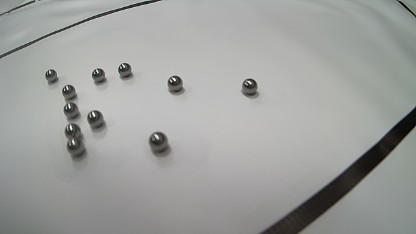ironball: (148, 131, 169, 152), (66, 137, 85, 157), (87, 110, 104, 128), (63, 102, 79, 119), (64, 123, 81, 139), (242, 78, 257, 95), (167, 75, 182, 91), (62, 84, 77, 100), (91, 68, 105, 83), (118, 63, 132, 78), (45, 69, 58, 82)
